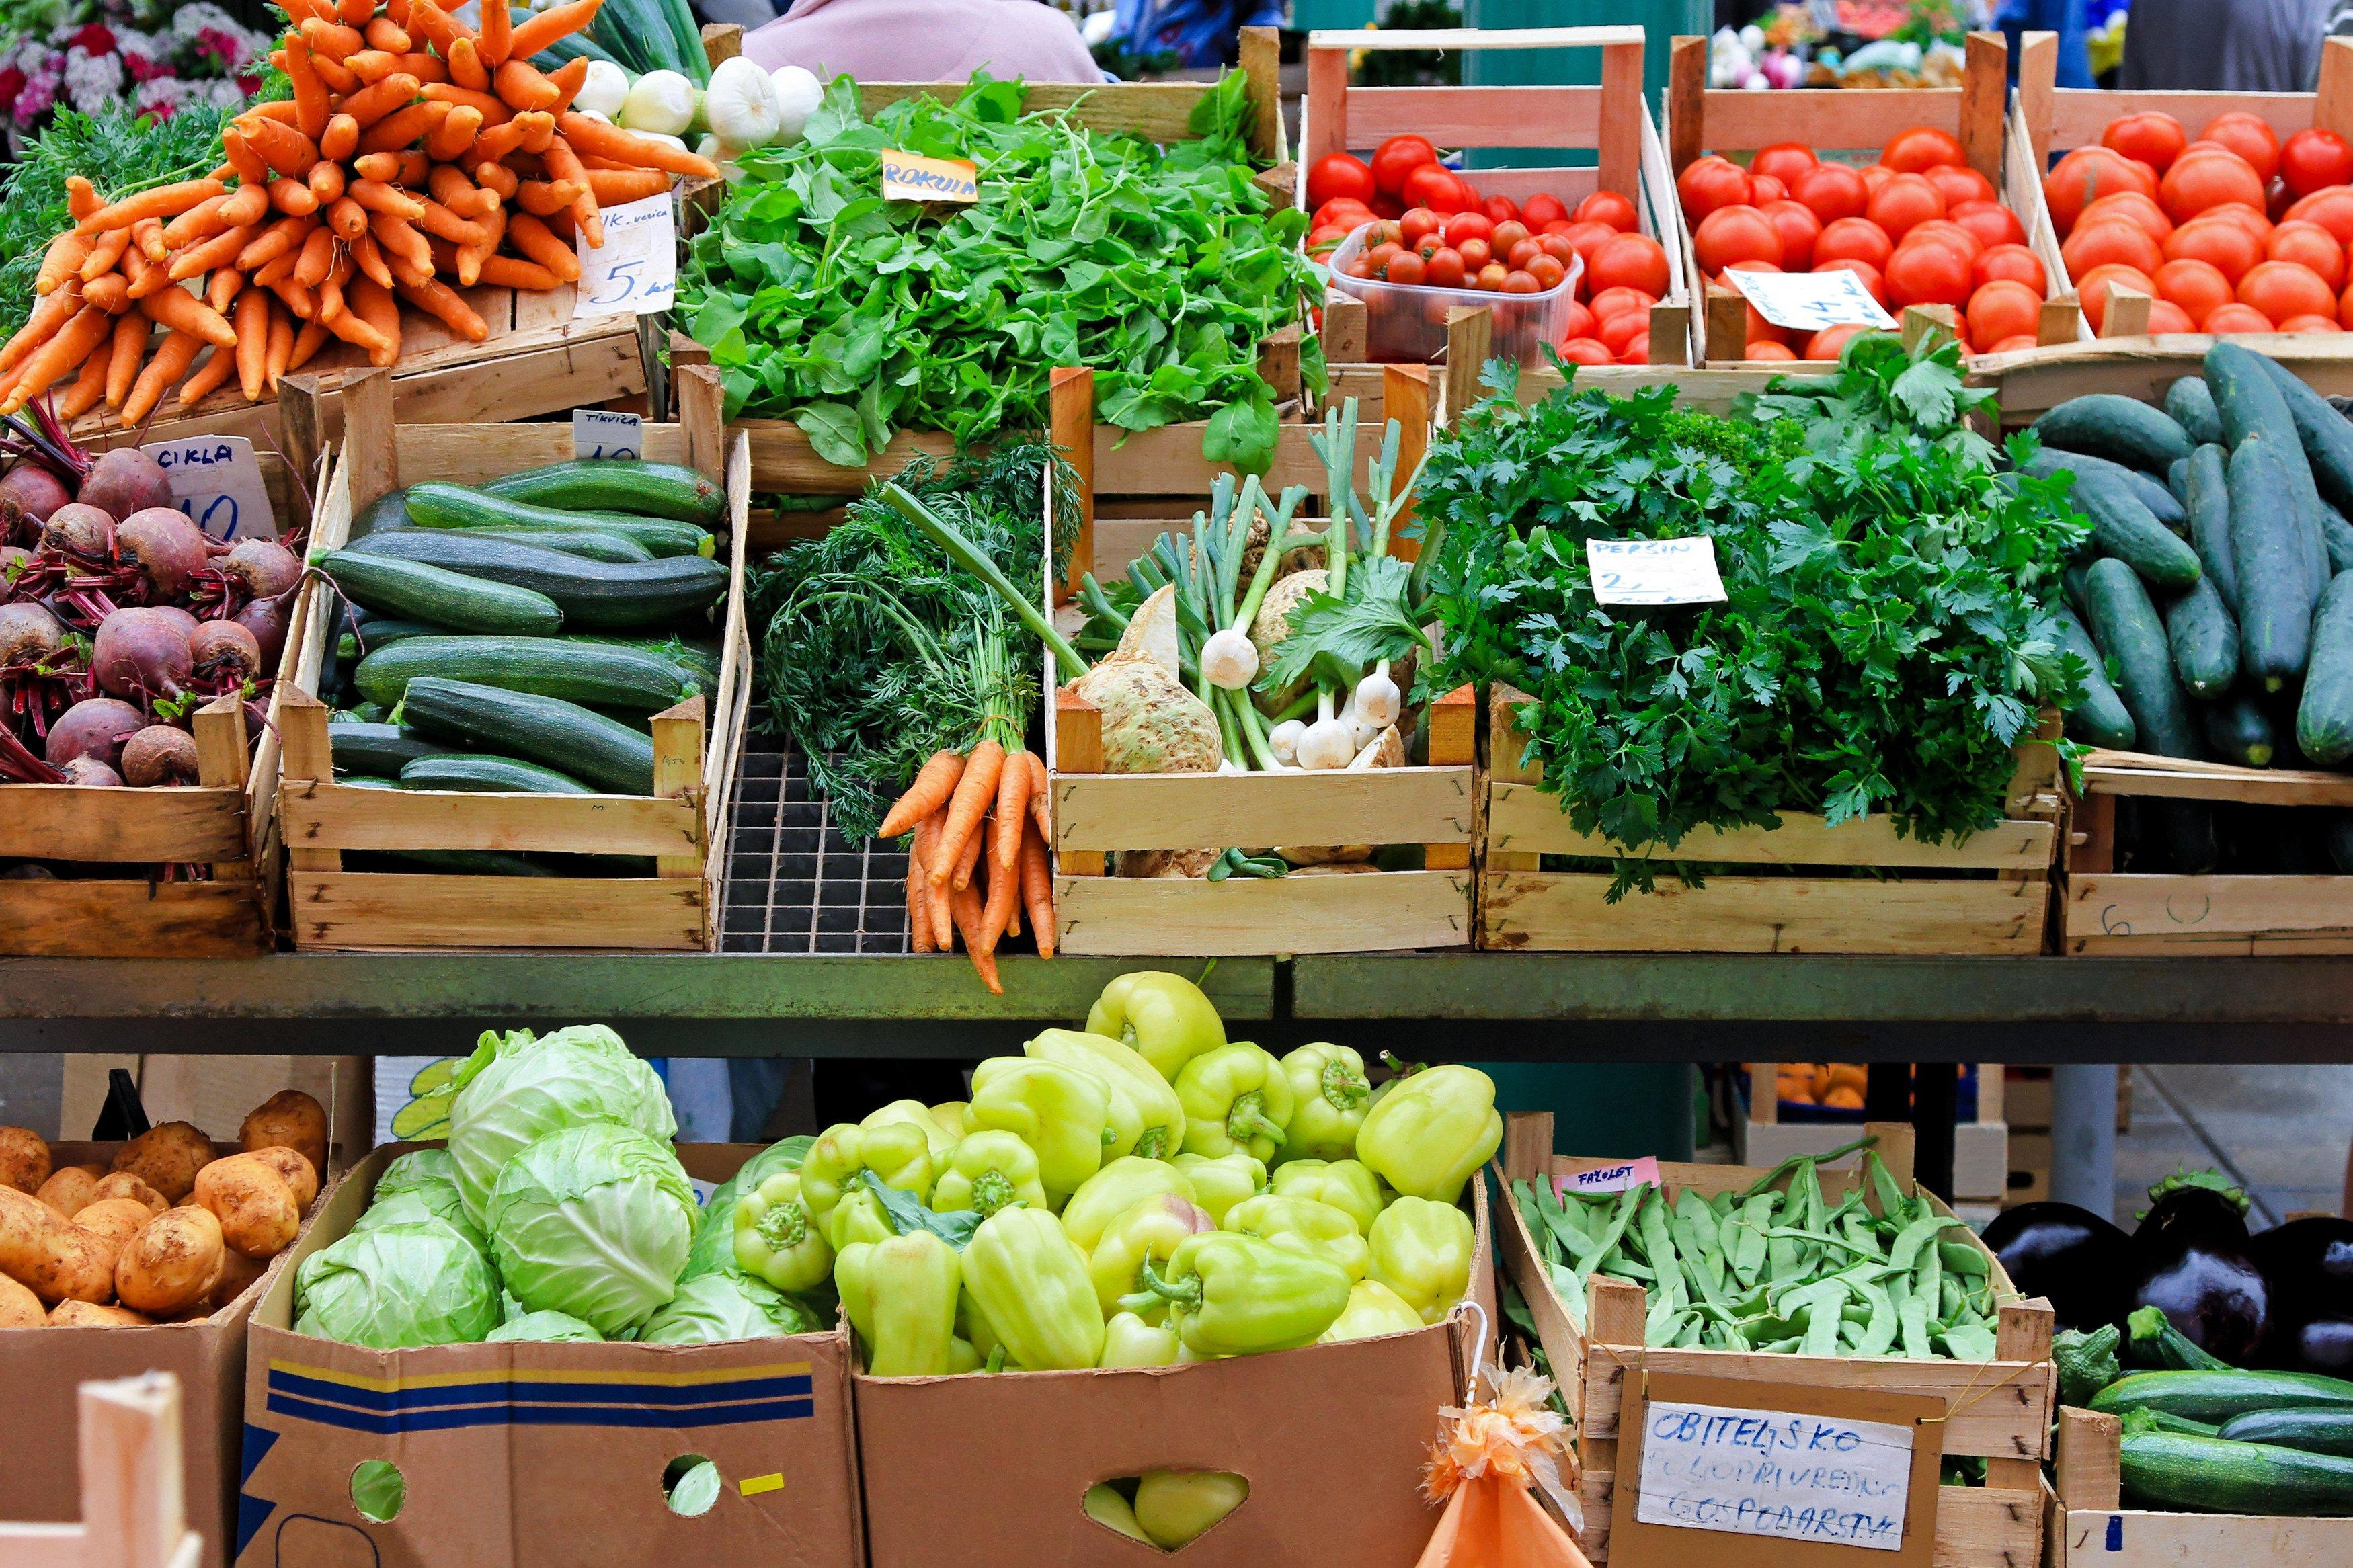beet: (0, 434, 308, 821)
cabbage: (270, 1013, 819, 1379)
carrot: (0, 0, 723, 436), (800, 485, 1071, 1003)
cucumber: (2029, 369, 2353, 761)
eggplant: (1982, 1155, 2353, 1391)
potato: (0, 1078, 334, 1332)
sweet pepper: (760, 980, 1514, 1386)
tomato: (1688, 91, 2047, 383), (1324, 94, 1674, 357), (2062, 80, 2353, 383)
